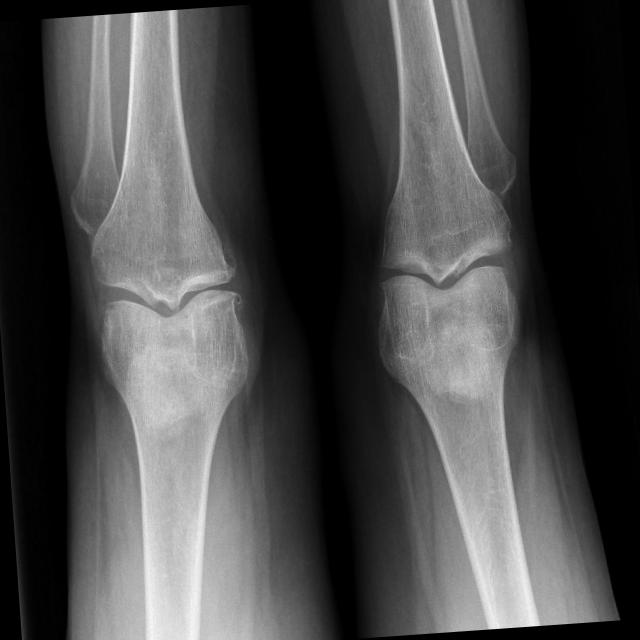Knee: (91, 220, 250, 364), (370, 212, 522, 345)
